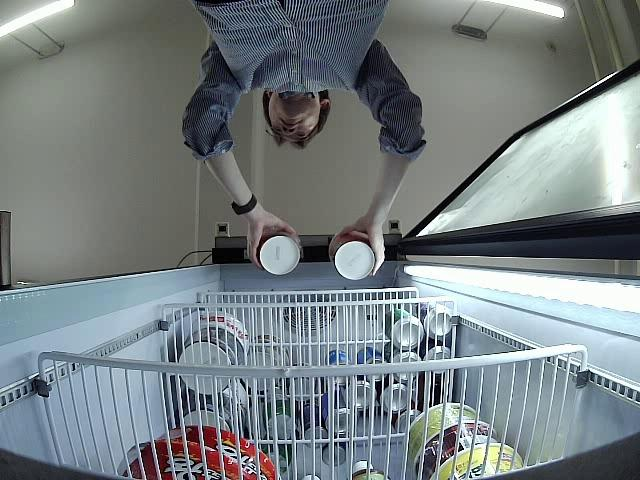00_hand: (337, 215, 386, 277), (245, 216, 299, 269)
01_shinRamen_L: (329, 232, 377, 280)
